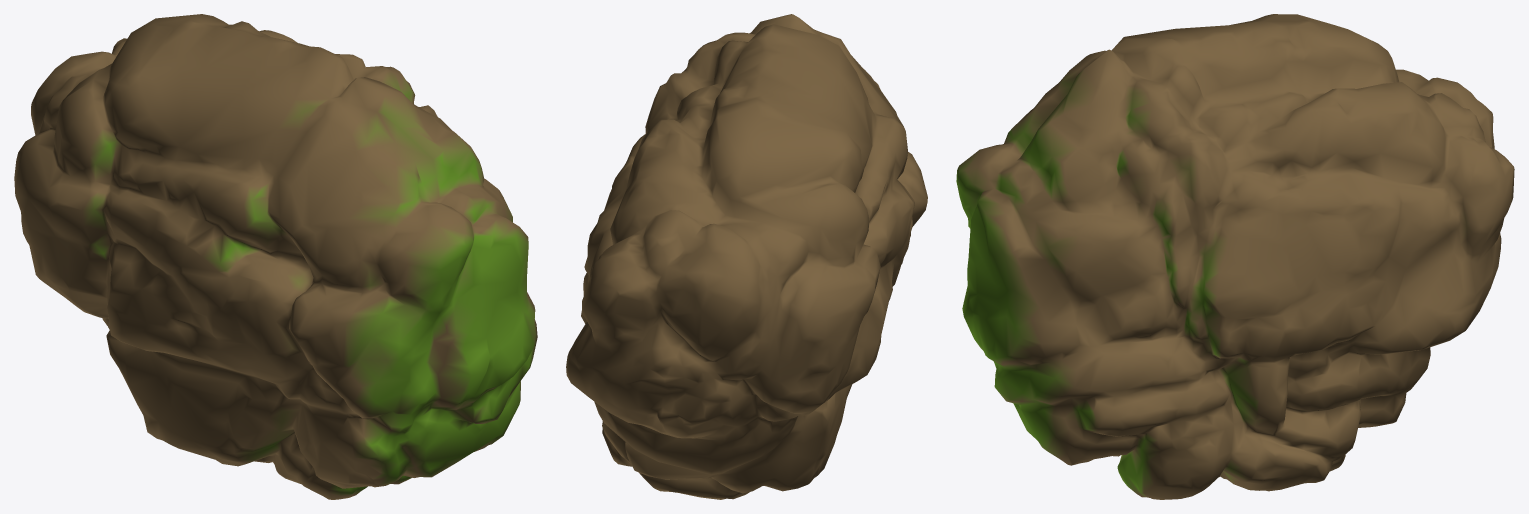
The model's file is cell_x3_z4_render.gltf.
The picture shows the model from 3 angles, left to right: view 1: azimuth 30°, elevation 25°; view 2: azimuth 150°, elevation 25°; view 3: azimuth 270°, elevation 25°; orthographic projection. The views are drawn at different scales.
Parts seen in each view (by area): view 1: SM_ENV_cliff_castle_01_LOD0.035; view 2: SM_ENV_cliff_castle_01_LOD0.035; view 3: SM_ENV_cliff_castle_01_LOD0.035.
Part boxes in pixels (box(x1,y1,x2,y2)): SM_ENV_cliff_castle_01_LOD0.035: box(14, 14, 537, 499); SM_ENV_cliff_castle_01_LOD0.035: box(566, 14, 927, 499); SM_ENV_cliff_castle_01_LOD0.035: box(956, 14, 1514, 499).
Bounding box in the file's own units: 57.85 × 68.24 × 79.96.
